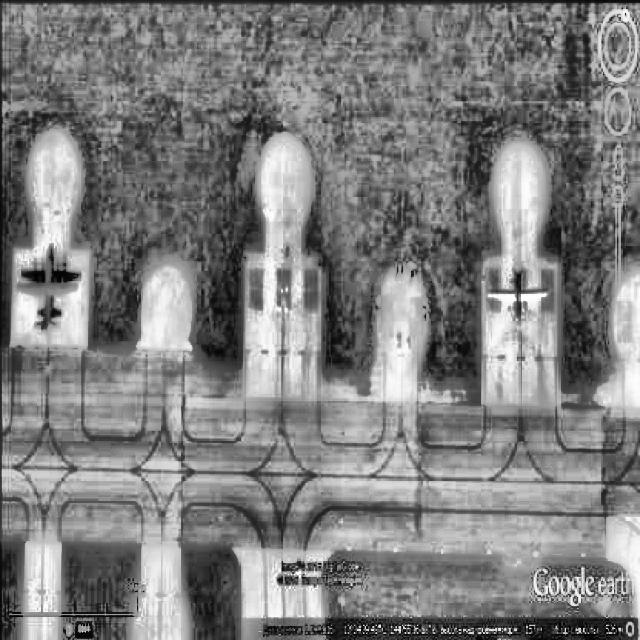C130: (16, 252, 78, 334)
RQ4: (487, 267, 548, 318)
